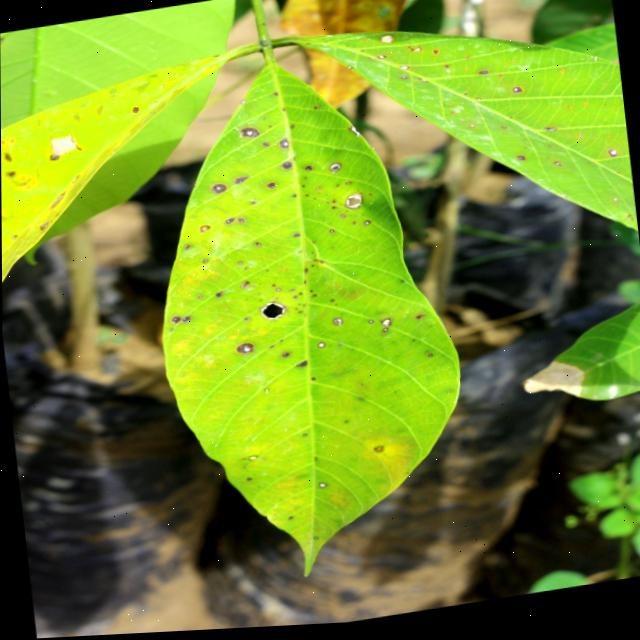Colletotrichum: (258, 300, 288, 324), (239, 127, 260, 140), (235, 344, 254, 357), (211, 184, 226, 194), (278, 139, 288, 151), (281, 163, 291, 172), (331, 320, 342, 328), (199, 226, 210, 233), (316, 343, 325, 351), (373, 449, 383, 456), (318, 484, 326, 490), (363, 223, 370, 228), (382, 330, 388, 335), (366, 321, 372, 326), (329, 231, 333, 235), (340, 217, 344, 220), (275, 290, 279, 292), (329, 302, 333, 304)
